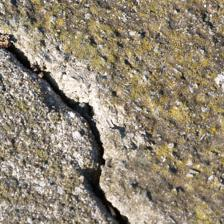Crack: (2, 20, 126, 204)
